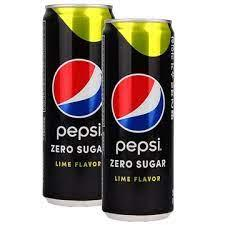pepsi_zero: (102, 16, 178, 221)
